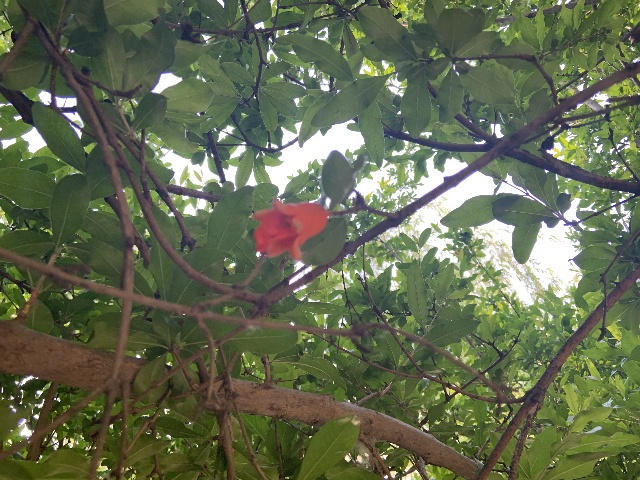flower: (251, 197, 330, 260)
